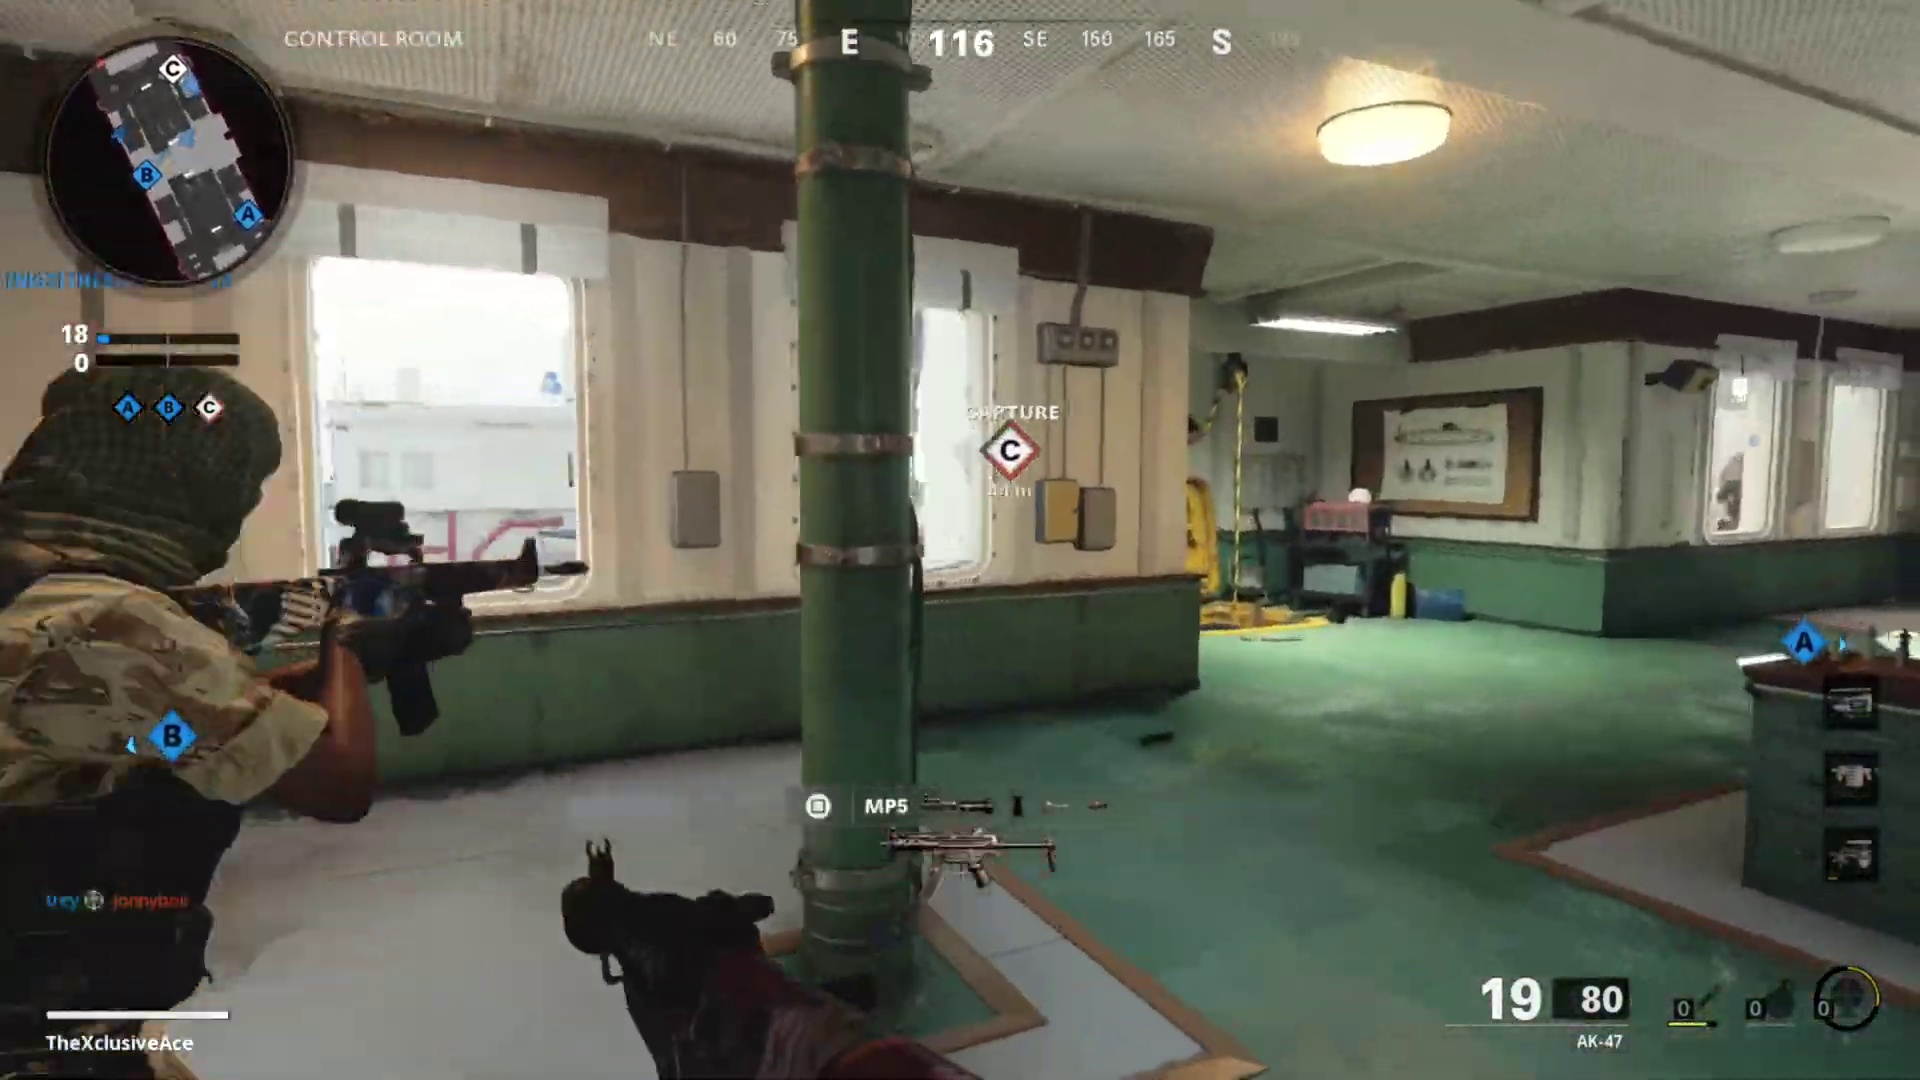head: (5, 336, 295, 621)
person: (1, 362, 366, 1072)
